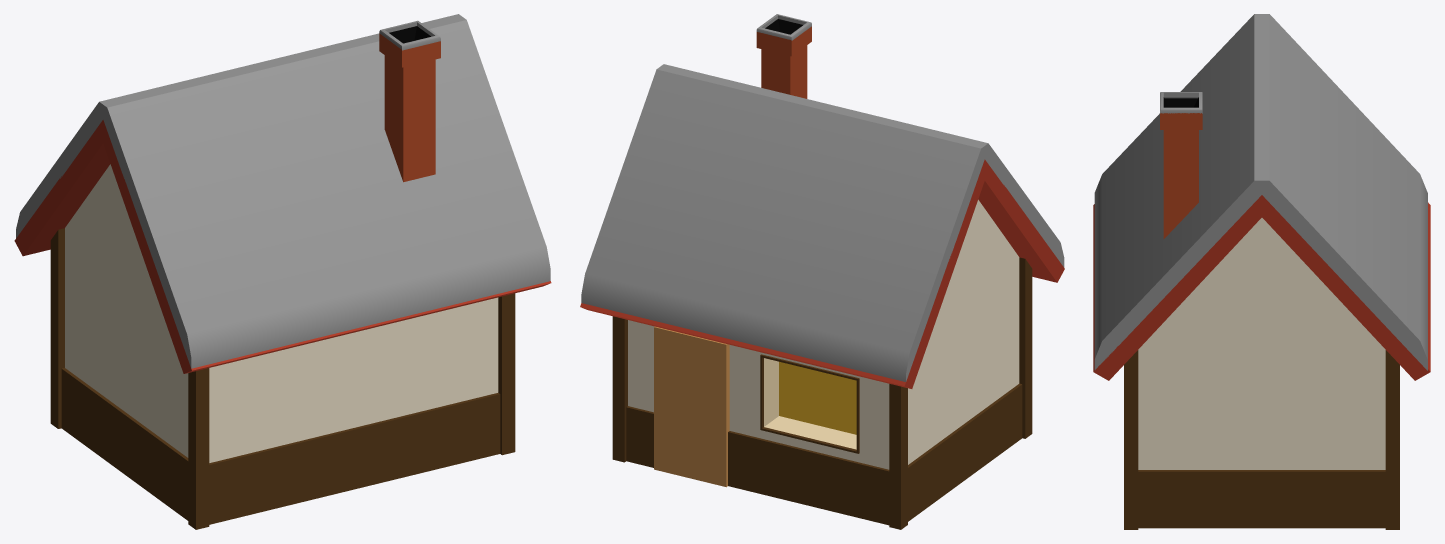
File: hosue_7.fbx
3 renders of one model, left to right at view 1: azimuth 30°, elevation 25°; view 2: azimuth 150°, elevation 25°; view 3: azimuth 270°, elevation 25°, orthographic. The views are drawn at different scales.
Parts seen in each view (by area): view 1: Object059, Object049; view 2: Object059, Object049, Object056; view 3: Object049, Object059.
Boxes of the visible parts, x1,y1,x2,y2 form: Object059: [16, 14, 550, 368]; Object049: [14, 26, 551, 529]; Object059: [581, 14, 1064, 381]; Object049: [580, 19, 1064, 529]; Object056: [779, 361, 856, 434]; Object049: [1093, 96, 1430, 529]; Object059: [1094, 14, 1427, 370].
Bounding box in the file's own units: 37 × 40.84 × 31.64.
